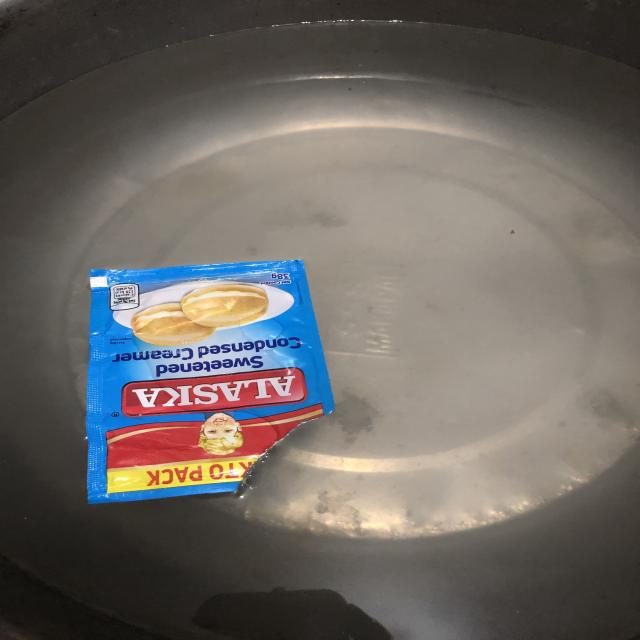Plastic Wrapper: (86, 260, 334, 504)
